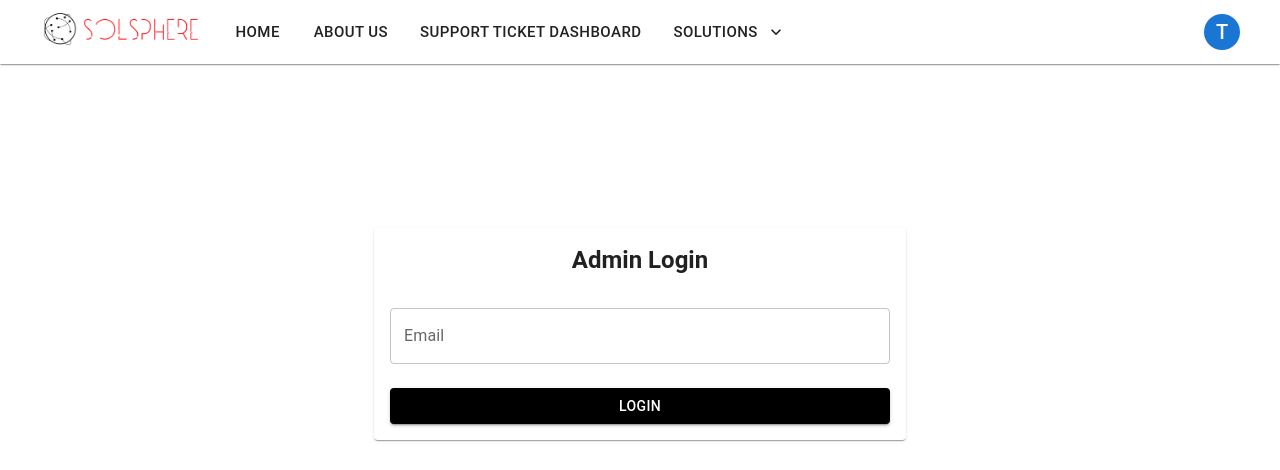
Test: Login › should show validation error for empty email
The width and height of the screenshot is (1280, 470).
Click the button "Login".
click(640, 406)  # box [390, 388, 890, 424]
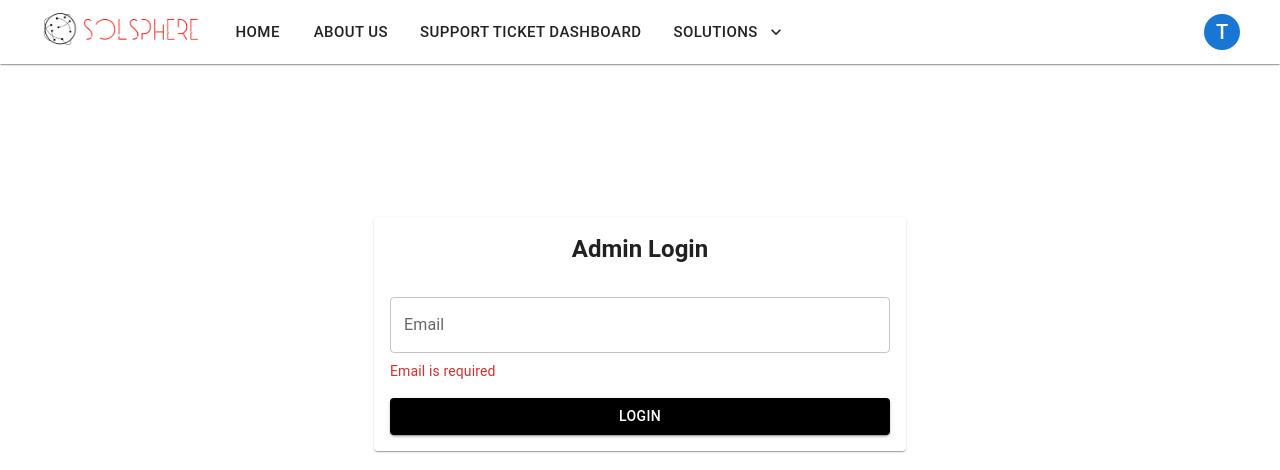
Result: the text with test id "login-error" reads "Email is required" at [390, 363, 496, 379]
